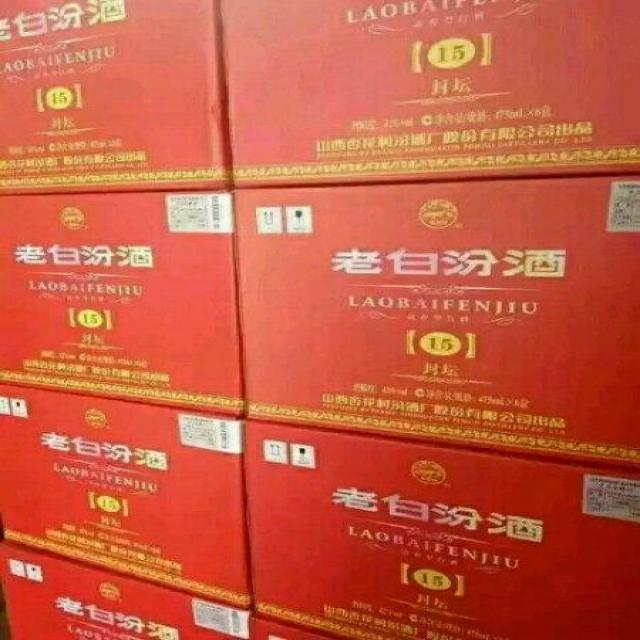box: (216, 173, 640, 470), (244, 436, 640, 639), (234, 0, 640, 185), (0, 369, 250, 611), (0, 176, 246, 418), (0, 0, 234, 191), (0, 532, 246, 640)
